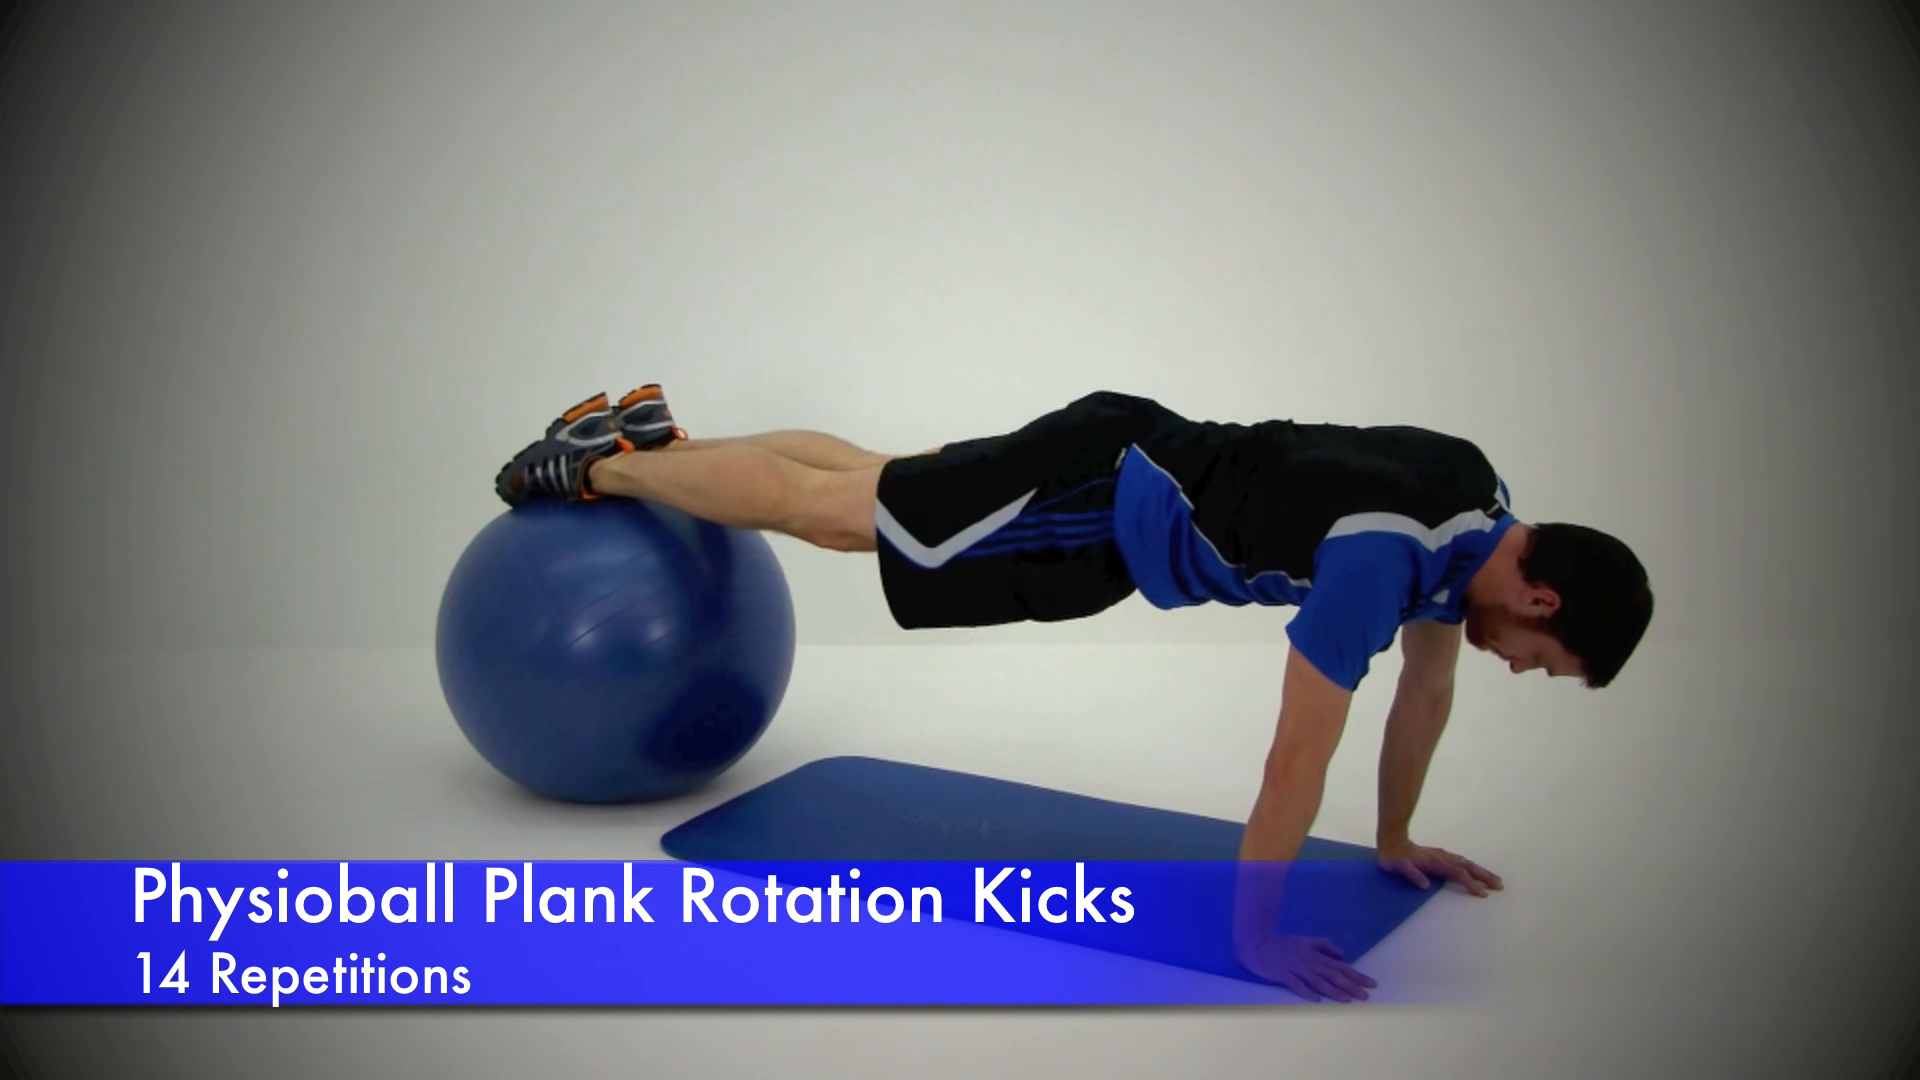yogaball: (425, 487, 808, 822)
